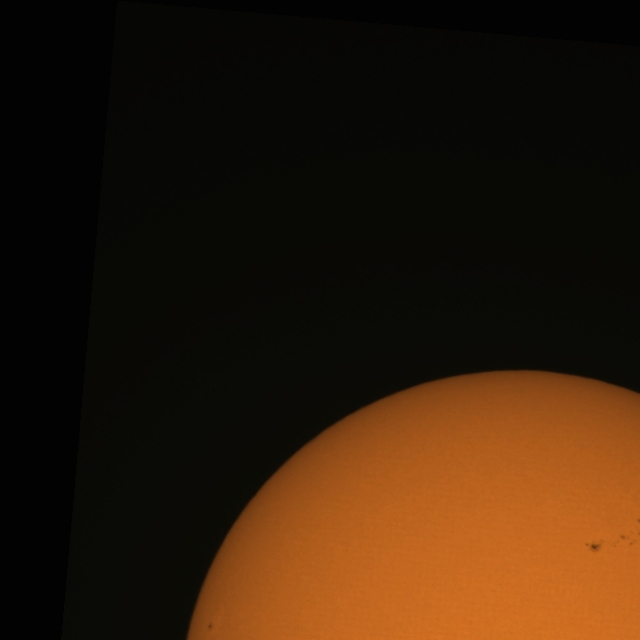sunspot: (581, 529, 640, 552), (610, 526, 639, 548), (584, 538, 607, 553), (207, 622, 214, 632)
